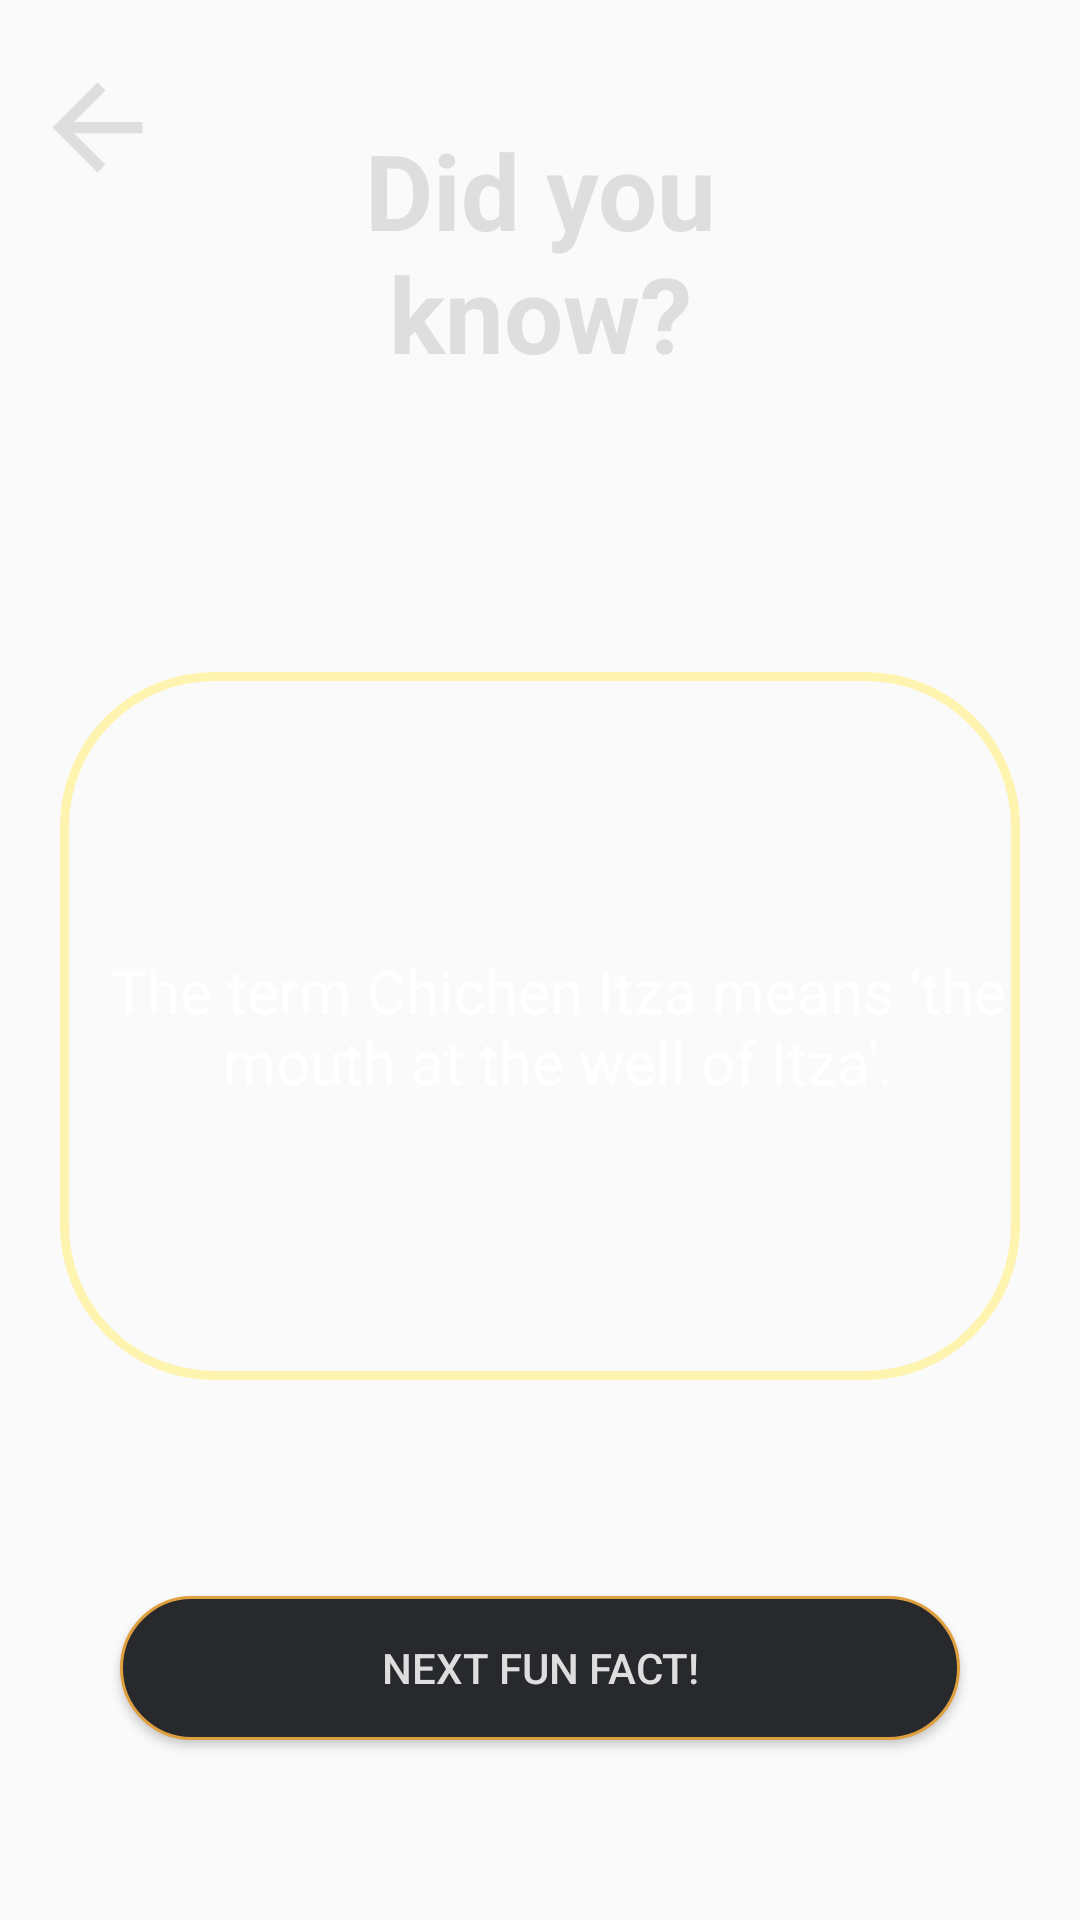

Locate icon controls on the screen. Image size 1080w x 1920h, boxes as (x1, y1, x2, y2).
arrow back: (53, 83, 142, 172)
